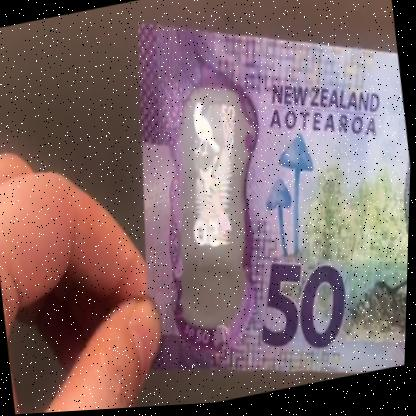50B: (159, 93, 262, 316)
